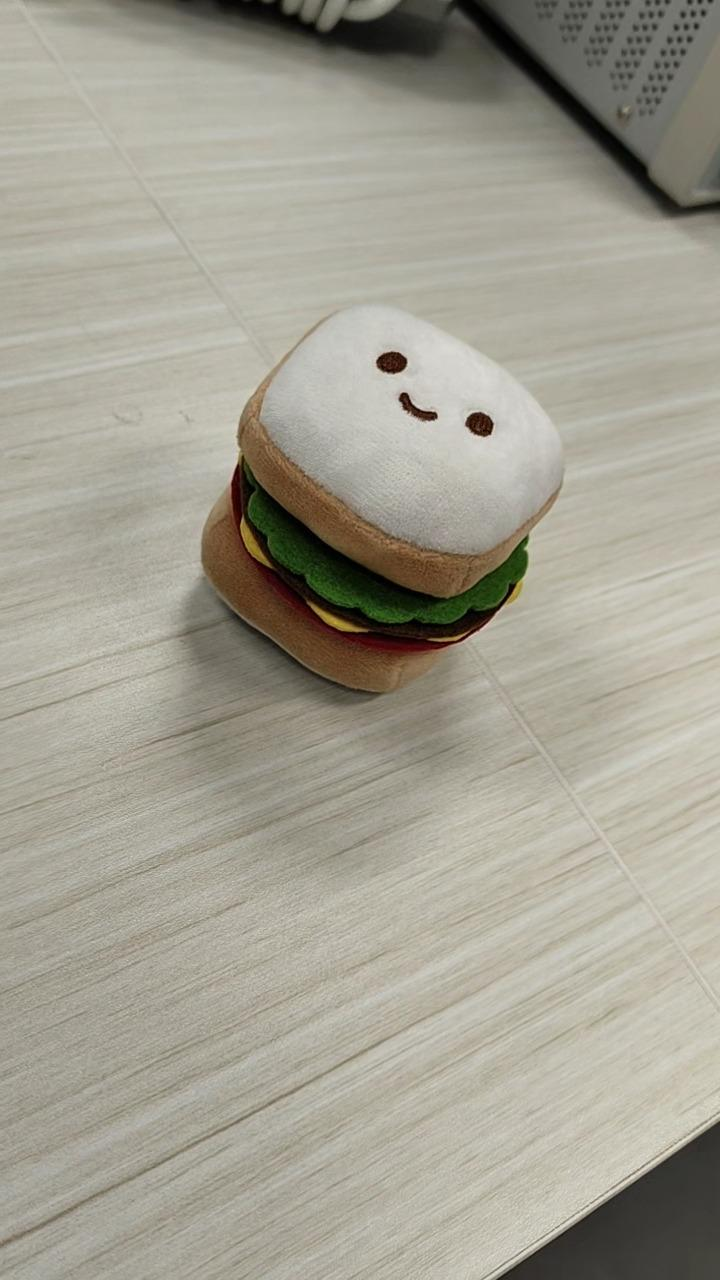objects: (199, 300, 565, 695)
